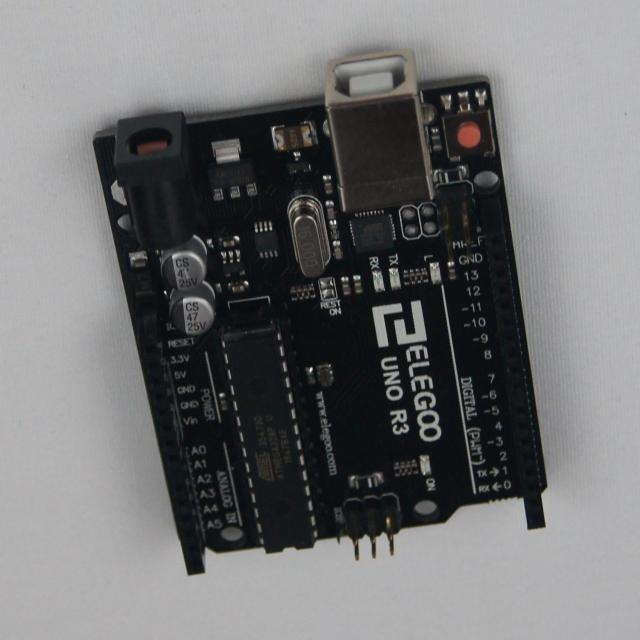Arduino Uno -Black-: (95, 52, 546, 575)
